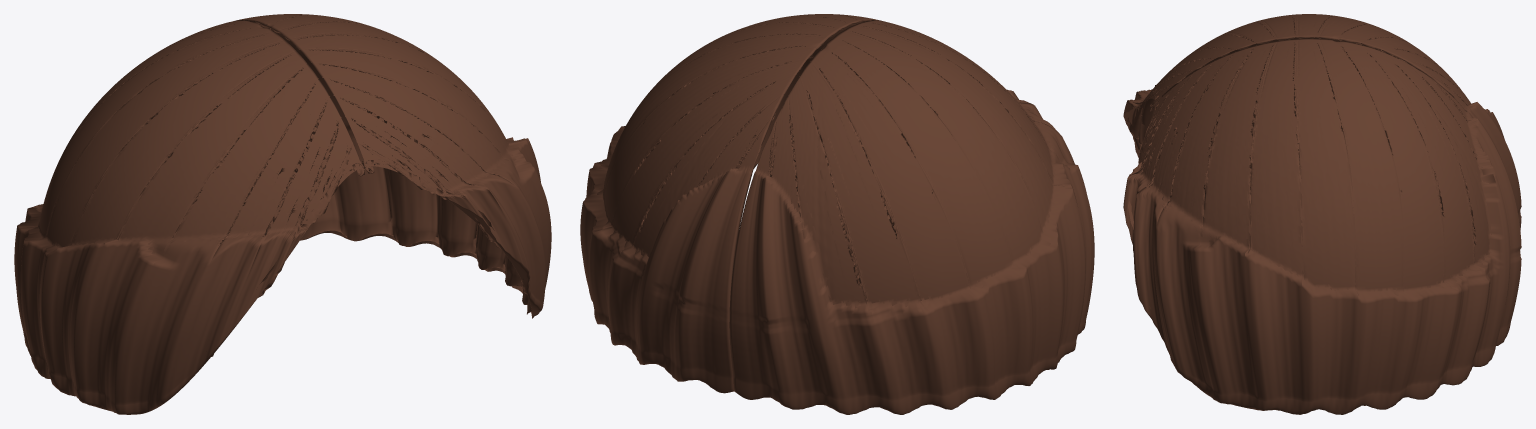
The model's file is Masculine-middle-part-cap252-hair.glb.
The picture shows the model from 3 angles, left to right: view 1: azimuth 30°, elevation 25°; view 2: azimuth 150°, elevation 25°; view 3: azimuth 270°, elevation 25°; orthographic projection. The views are drawn at different scales.
Visible parts, largest first — view 1: 226 hair / Hair252 / flowing sculpt middle.001; view 2: 226 hair / Hair252 / flowing sculpt middle.001; view 3: 226 hair / Hair252 / flowing sculpt middle.001.
Part boxes in pixels (box(x1,y1,x2,y2)): 226 hair / Hair252 / flowing sculpt middle.001: box(14, 14, 551, 414); 226 hair / Hair252 / flowing sculpt middle.001: box(580, 14, 1094, 414); 226 hair / Hair252 / flowing sculpt middle.001: box(1123, 14, 1521, 414).
Size of the model in its own units: 1.06 by 0.6426 by 0.832.
